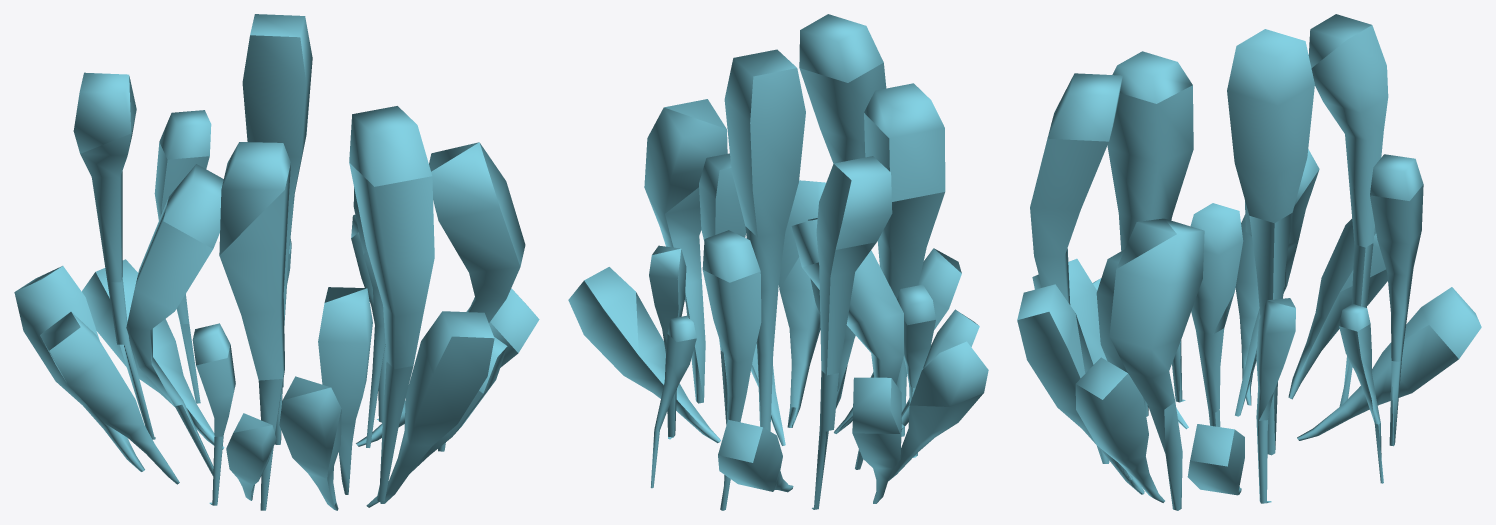
Rendered from kelp 4.gltf.
3 views of the same model, side by side, from view 1: azimuth 30°, elevation 25°; view 2: azimuth 150°, elevation 25°; view 3: azimuth 270°, elevation 25° (orthographic). The views are drawn at different scales.
Visible parts, largest first — view 1: node-0; view 2: node-0; view 3: node-0.
Part boxes in pixels (x1,y1,x2,y2): node-0: (14, 14, 539, 510); node-0: (568, 14, 988, 510); node-0: (1017, 14, 1481, 510).
Size of the model in its own units: 2.78 by 2.6 by 2.48.
